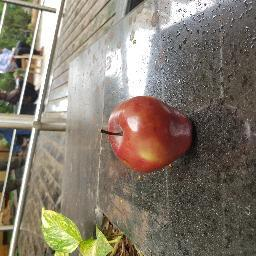Good_apple: (105, 91, 198, 172)
